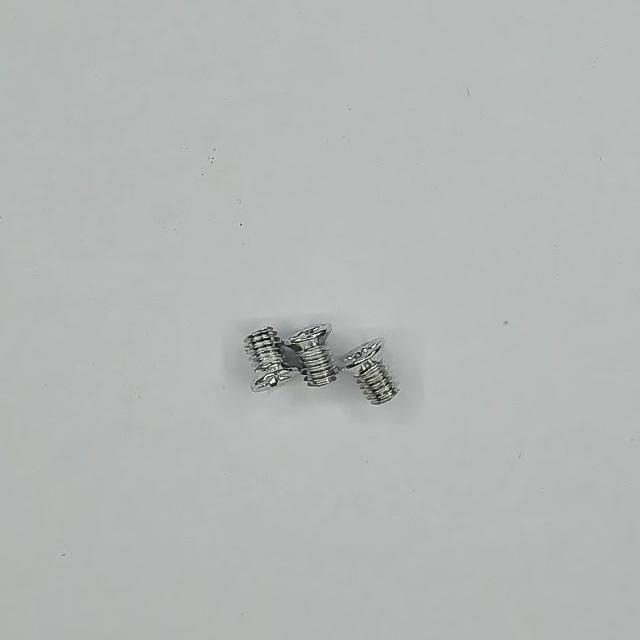Screw: (344, 339, 400, 406), (288, 324, 339, 388), (244, 327, 292, 392)
